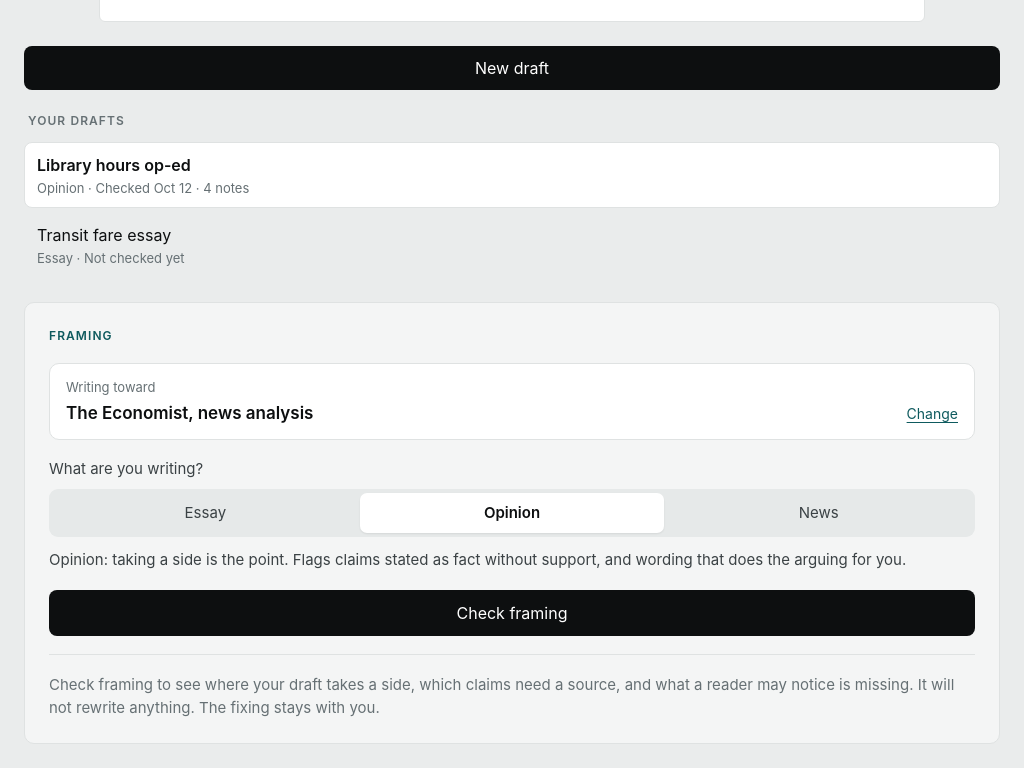
Scenario: with drafts › deleting › asks first, then removes the draft and opens the next newest
(page scrolled)
Click the button "Change": (932, 413) [907,403,958,424]
(page scrolled)
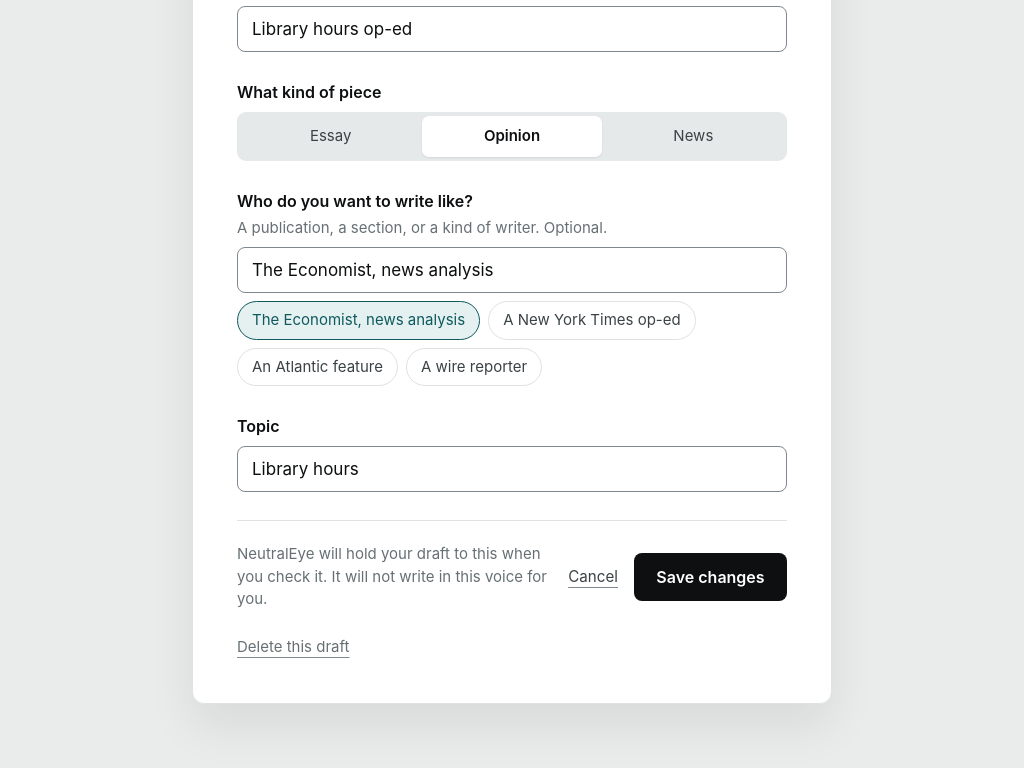
Click the button "Delete this draft": (293, 647) [237,631,349,663]
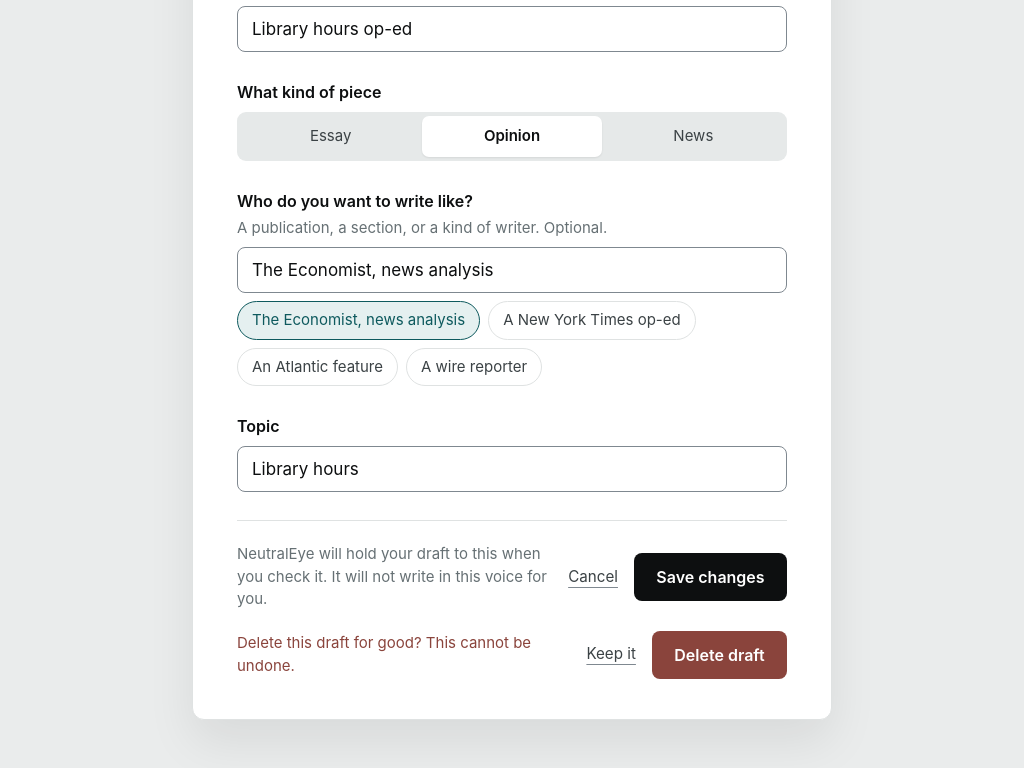
Result: the message reads "Delete this draft for good? This cannot be undone." at [237,633,531,675]
Click the button "Keep it": (611, 655) [586,639,636,671]
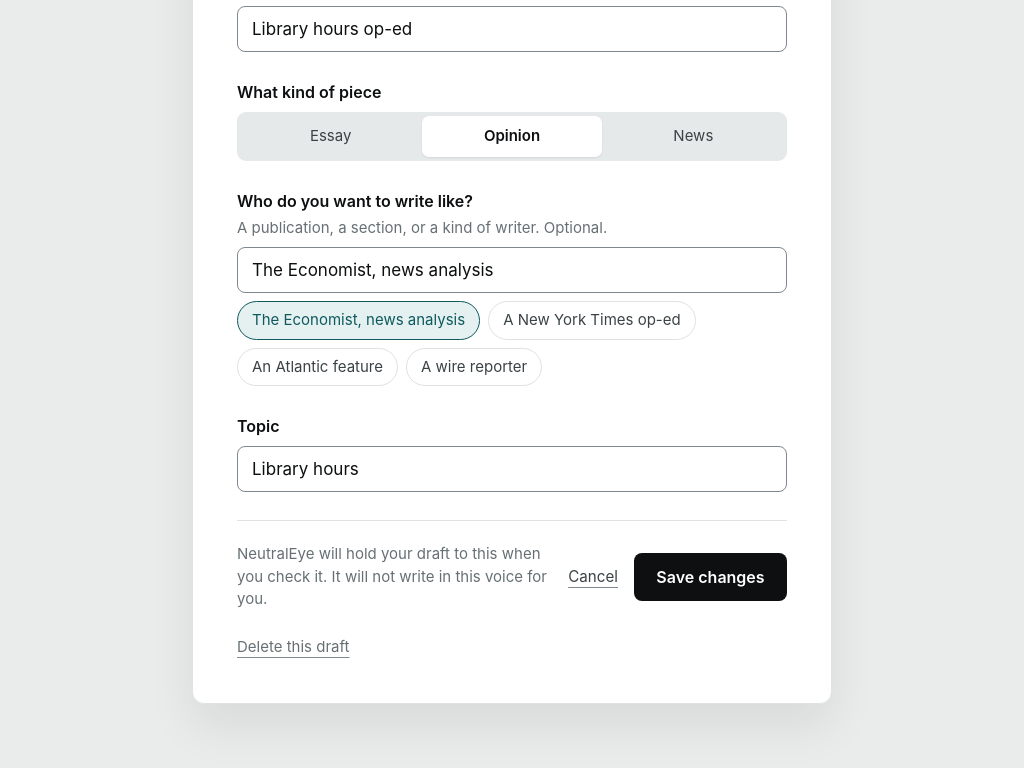
Click the button "Delete this draft": (293, 647) [237,631,349,663]
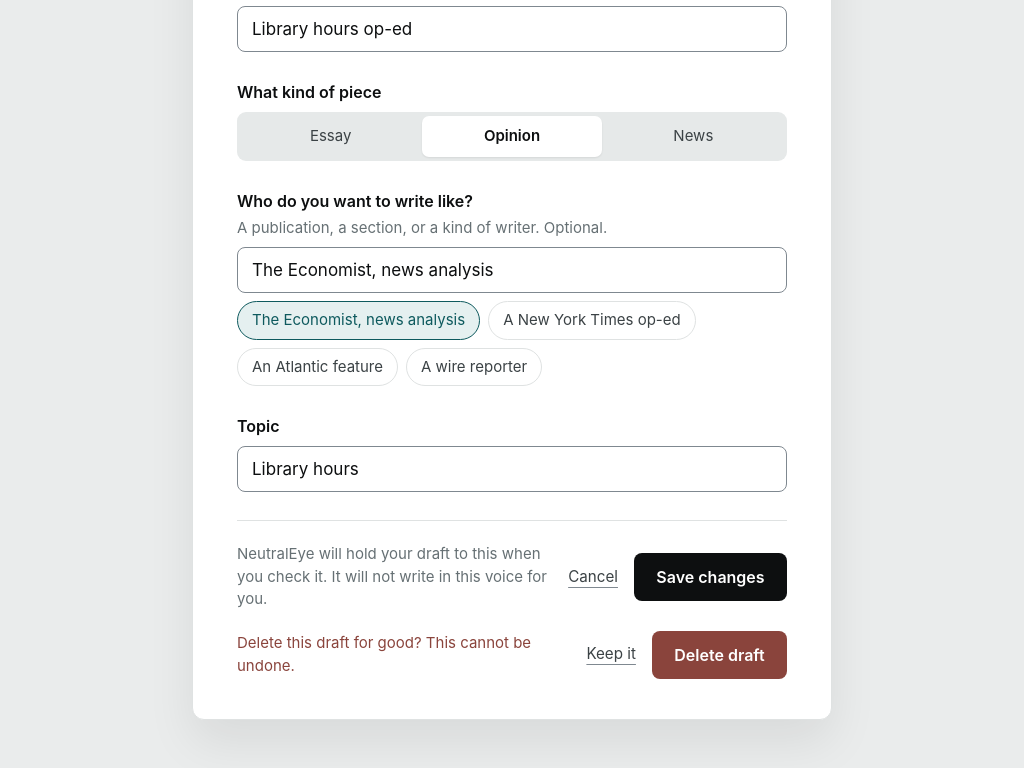
Click the button "Delete draft": (719, 655) [652,631,787,679]
(page scrolled)
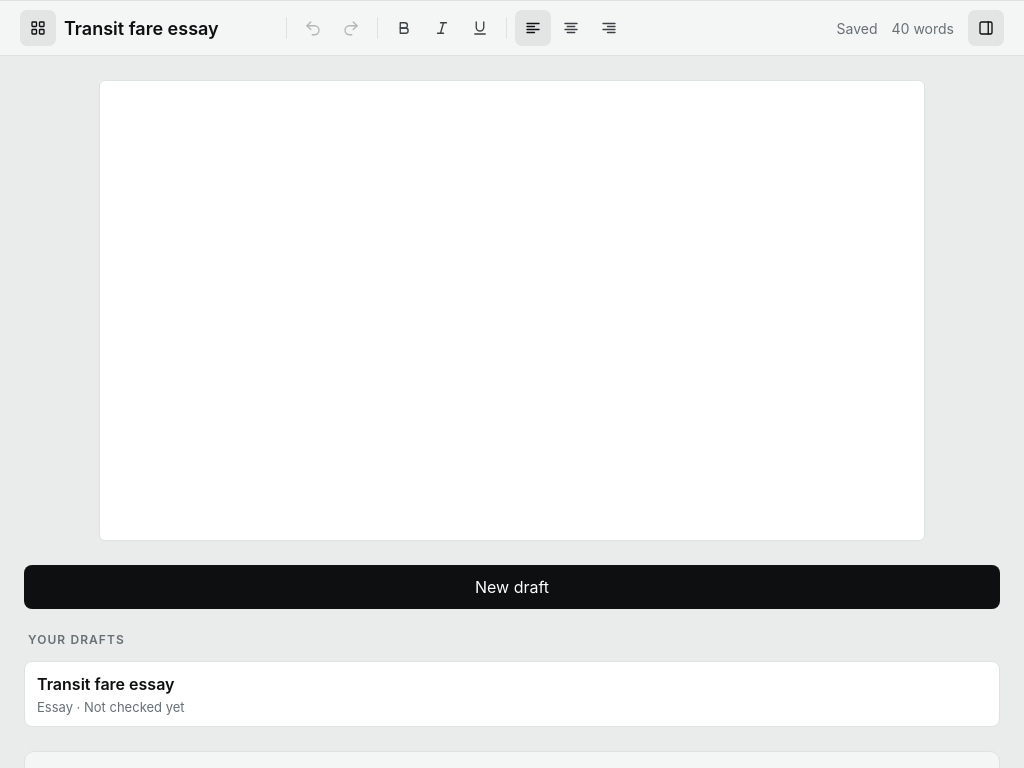
Expected: the button "Library hours op-ed" is not shown
Result: the field named "Draft title" holds "Transit fare essay" at [58,10,278,46]
